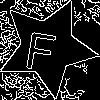F: (22, 22, 60, 72)
